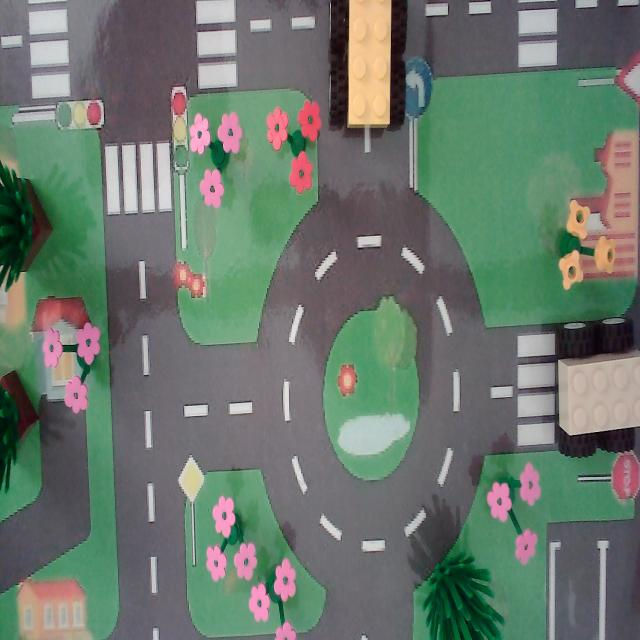Car: (540, 294, 640, 476), (320, 0, 415, 168)
Flower: (543, 177, 621, 306), (257, 78, 338, 200), (186, 86, 250, 220), (32, 306, 113, 410), (481, 451, 546, 574), (193, 472, 258, 593), (240, 539, 312, 640)
Tree: (404, 533, 508, 640), (0, 140, 64, 300), (0, 357, 41, 487)
